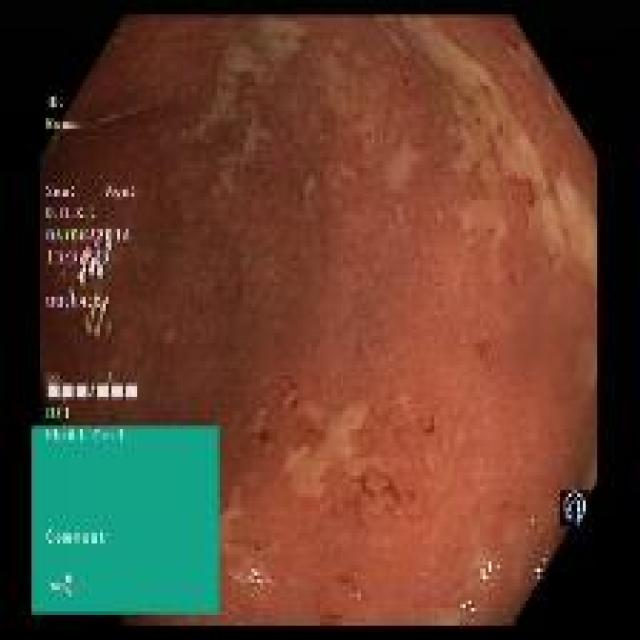ulcerative-colitis: (40, 19, 596, 623)
